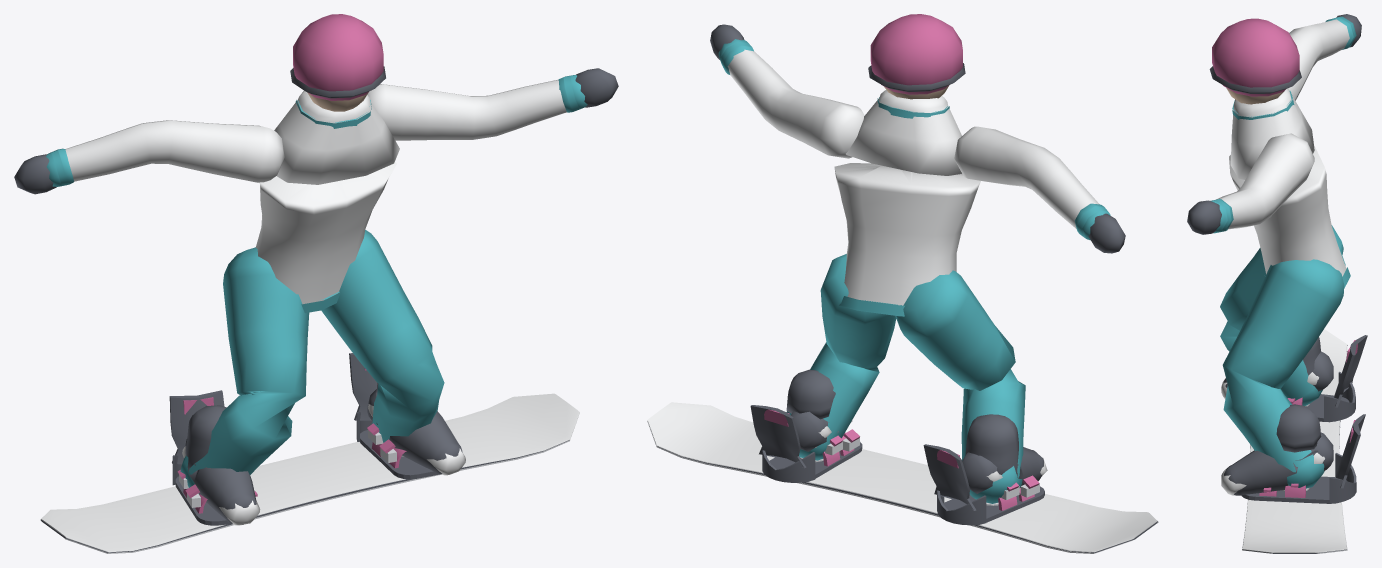
The model's file is snowboard-gear-and-freestyle-riders-rider-boardslide-p-975cd7f8__27170.glb.
The picture shows the model from 3 angles, left to right: view 1: azimuth 30°, elevation 25°; view 2: azimuth 150°, elevation 25°; view 3: azimuth 270°, elevation 25°; orthographic projection. The views are drawn at different scales.
Visible parts, largest first — view 1: rider-boardslide-pose; view 2: rider-boardslide-pose; view 3: rider-boardslide-pose.
Part boxes in pixels (x1,y1,x2,y2): rider-boardslide-pose: (14, 14, 618, 553); rider-boardslide-pose: (647, 14, 1158, 553); rider-boardslide-pose: (1187, 14, 1367, 553).
Bounding box in the file's own units: 1.54 × 1.35 × 0.5099.
